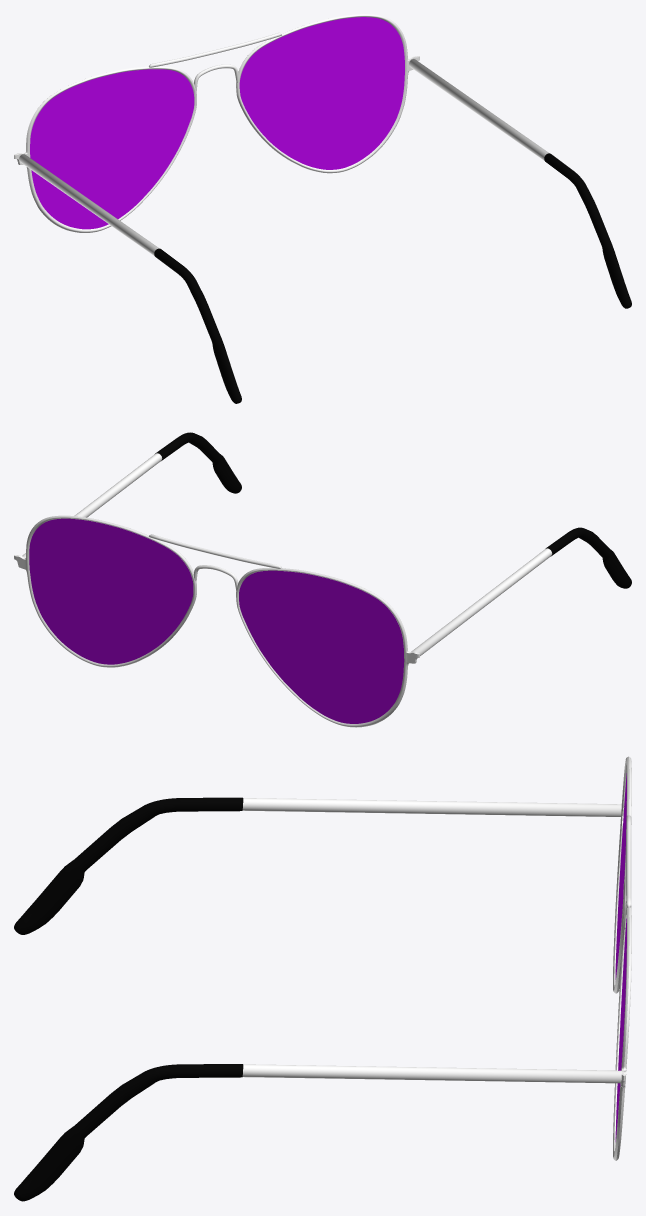
File: hero.glb
The picture shows the model from 3 angles, top to bottom: view 1: azimuth 30°, elevation 25°; view 2: azimuth 150°, elevation 25°; view 3: azimuth 270°, elevation 25°; orthographic projection. The views are drawn at different scales.
Parts seen in each view (by area): view 1: glasses final; view 2: glasses final; view 3: glasses final.
Boxes of the visible parts, x1,y1,x2,y2 form: glasses final: [14, 14, 631, 403]; glasses final: [14, 432, 631, 727]; glasses final: [14, 756, 631, 1201].
Bounding box in the file's own units: 0.5946 × 0.2121 × 0.5601.
